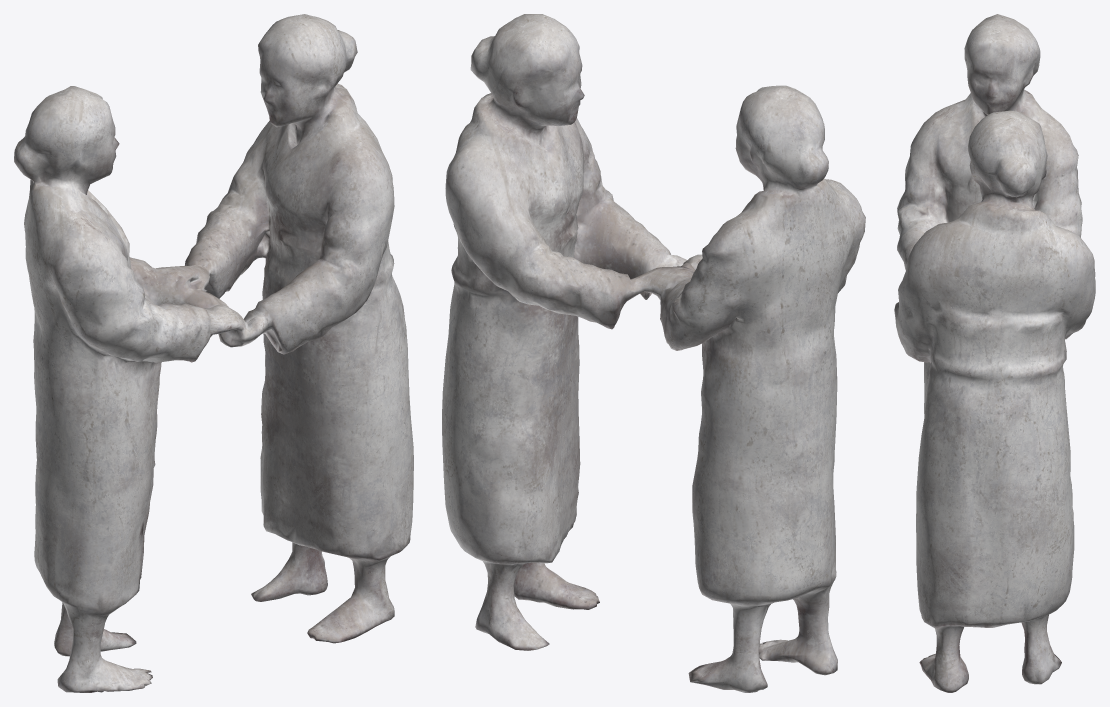
Rendered from women.glb.
The picture shows the model from 3 angles, left to right: view 1: azimuth 30°, elevation 25°; view 2: azimuth 150°, elevation 25°; view 3: azimuth 270°, elevation 25°; orthographic projection. The views are drawn at different scales.
Visible parts, largest first — view 1: Group47822; view 2: Group47822; view 3: Group47822.
Part boxes in pixels (x1,y1,x2,y2): Group47822: [14, 14, 413, 692]; Group47822: [442, 14, 865, 692]; Group47822: [894, 14, 1095, 692].
Size of the model in its own units: 1.06 by 1.62 by 0.5329.
Materials: 1 (1 with a texture image).
